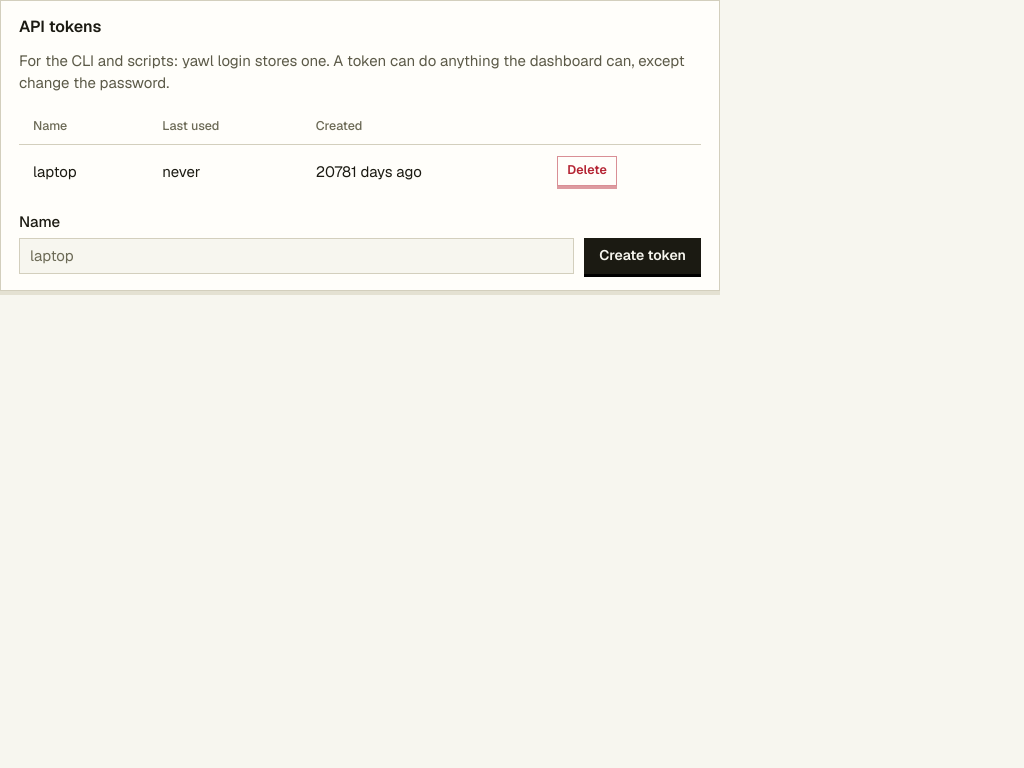
Tokens › asks before it deletes a token
This screenshot has width=1024, height=768.
Later steps or results of the test are not shown.
What coordinates should you click on to do the following:
click the button with aria-label "Delete laptop"
I would click on:
 (587, 171)
Its box is [557,156,617,186].
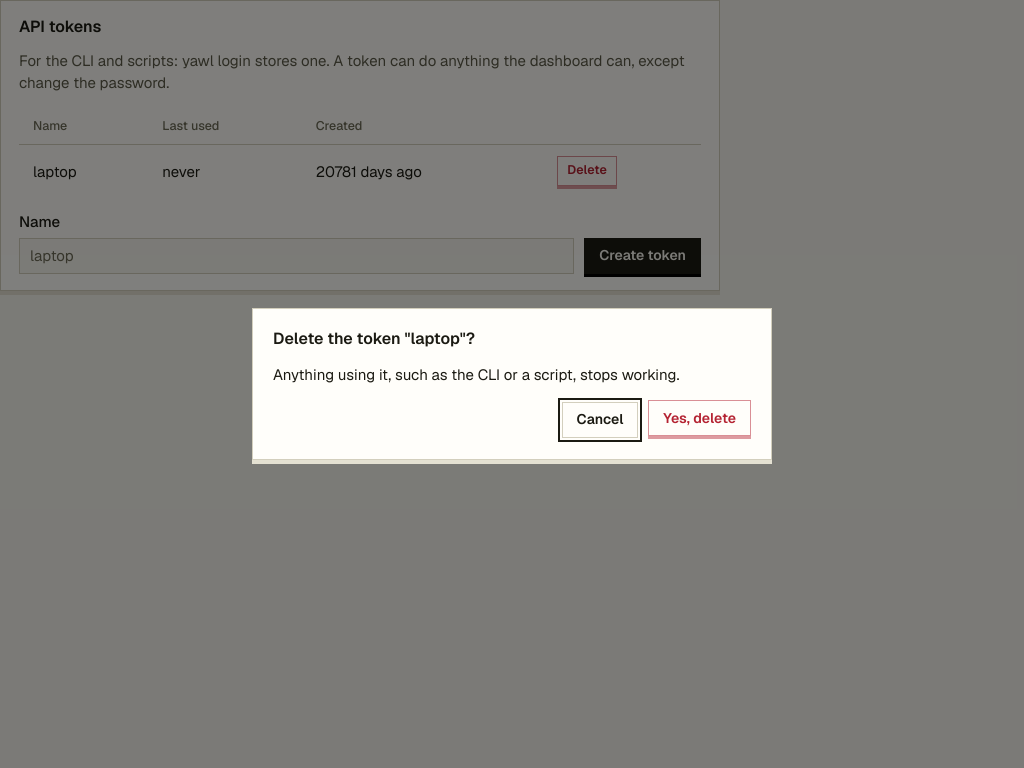
Now the heading "Delete the token \"laptop\"?" is shown, box [273,328,475,349]
